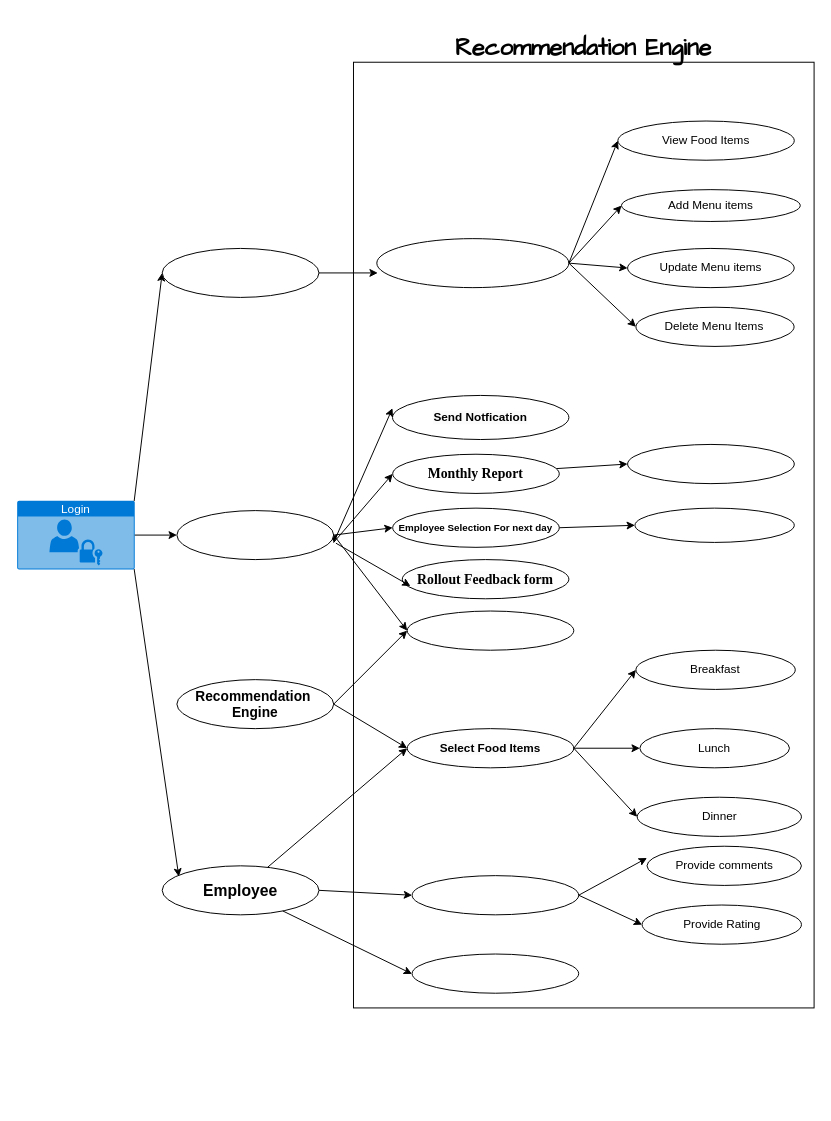
The diagram is 831 pixels wide and 1121 high, and some of its shapes have lost their labels. Here are the shapes that lost their labels. From the top down, the box of each, then its label:
(161, 247, 319, 297): Admin
(376, 238, 569, 288): Menu mangements
(627, 443, 794, 484): Generated report
(176, 510, 334, 560): Chef
(634, 507, 794, 542): Final Dishes selection
(406, 610, 574, 650): Rollout food items
(411, 875, 579, 915): Feedback
(411, 953, 579, 993): See Notifcation
